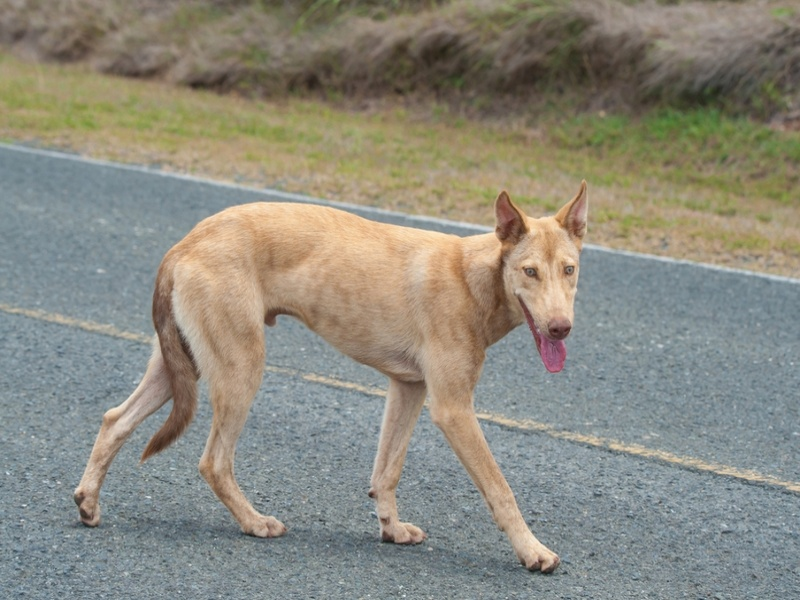dog: (70, 180, 589, 576)
